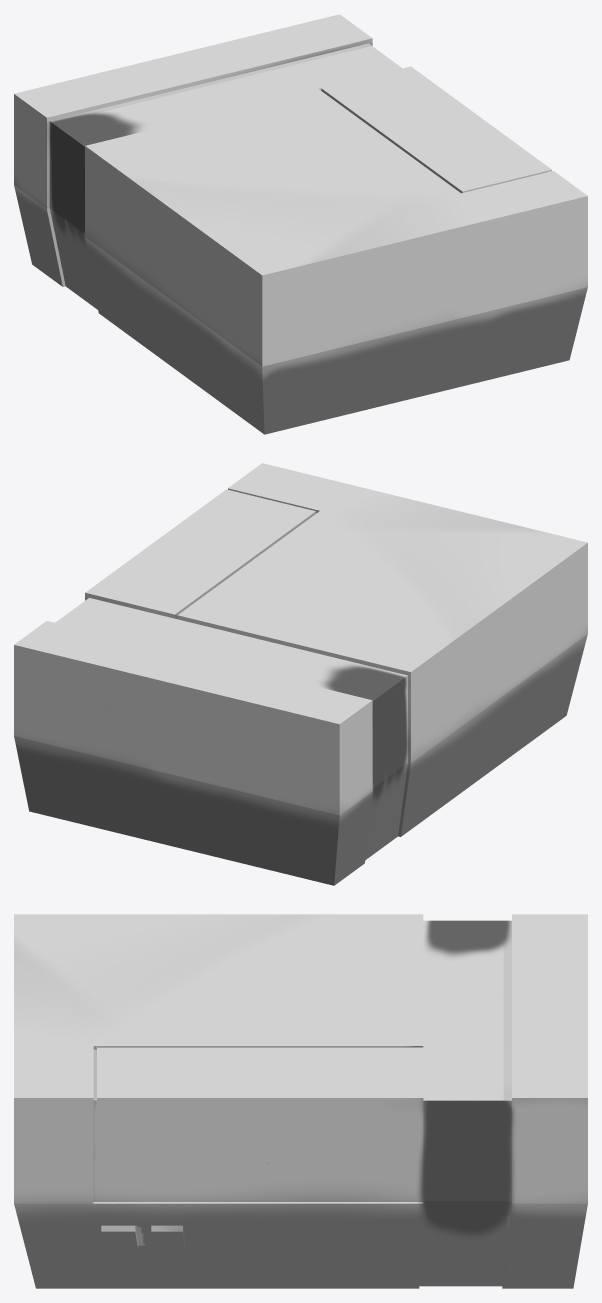
The model's file is nes.fbx.
3 renders of one model, top to bottom at view 1: azimuth 30°, elevation 25°; view 2: azimuth 150°, elevation 25°; view 3: azimuth 270°, elevation 25°, orthographic. The views are drawn at different scales.
Parts seen in each view (by area): view 1: Cube; view 2: Cube; view 3: Cube.
Part boxes in pixels (bbox=[...]): Cube: bbox=[14, 14, 587, 434]; Cube: bbox=[14, 463, 587, 885]; Cube: bbox=[14, 914, 587, 1288].
Size of the model in its own units: 898 by 434 by 1156.
1 material, 1 textured.
